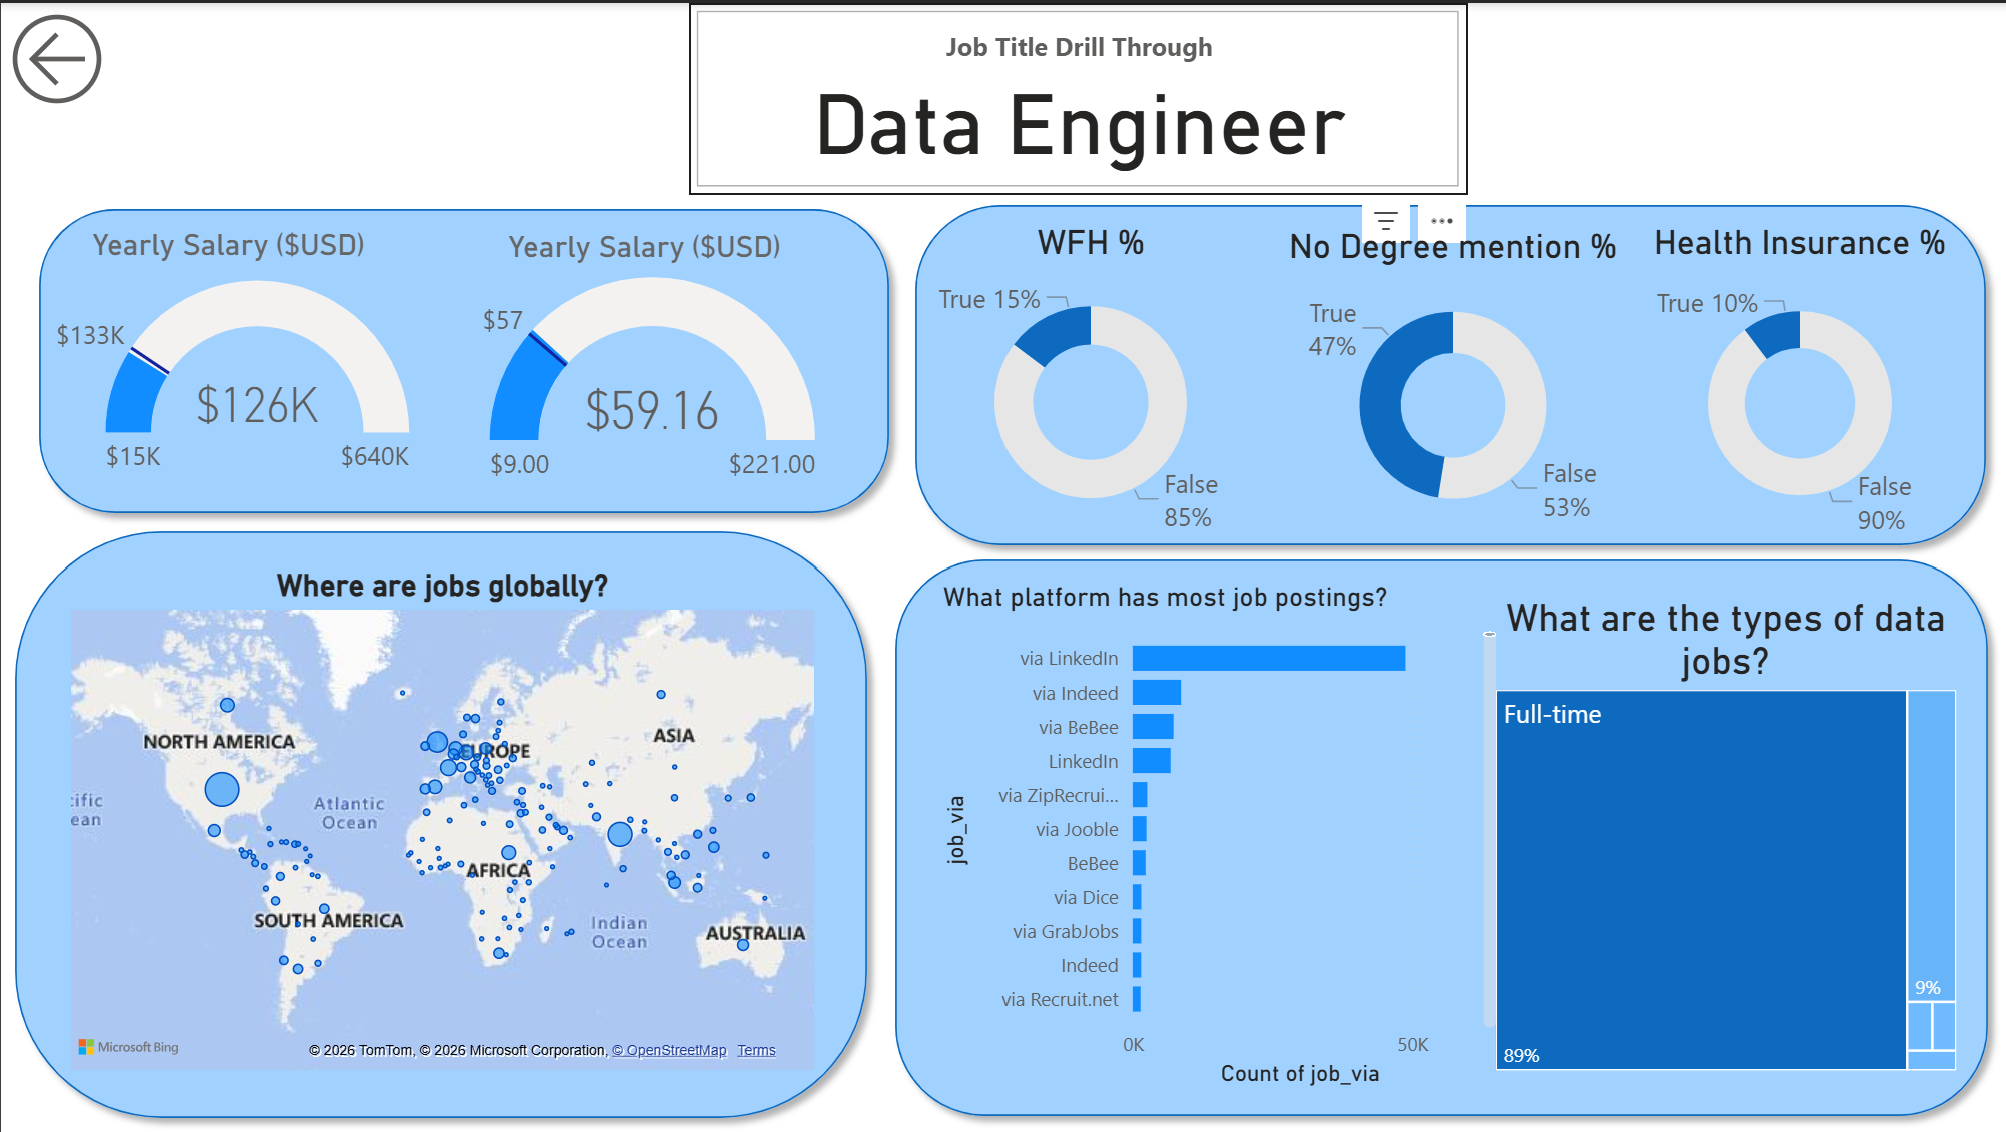

This screenshot's page, from the dashboard's own definition file:
{"tool":"powerbi","page":{"name":"Job Title Drill Through","canvas":[1280,720],"ordinal":1},"visuals":[{"type":"group","id":"g1","title":"Background","box":[0,119.3,1274.9,598.9],"z":0},{"type":"shape","box":[15.3,121.5,559.7,211.6],"z":0,"group":"g1"},{"type":"cardVisual","title":"Job Title Drill Through","fields":{"Data":["Min(job_postings_flat.job_title_short)"]},"box":[438.6,0,495.9,122.4],"z":1000},{"type":"shape","box":[573.7,119.3,699.9,234.6],"z":1000,"group":"g1"},{"type":"actionButton","box":[0,0,118.6,91.8],"z":2000},{"type":"shape","box":[0,326.8,561,391.4],"z":2000,"group":"g1"},{"type":"gauge","title":"Yearly Salary ($USD)","fields":{"Y":["Median(job_postings_flat.salary_year_avg)"],"MinValue":["Min(job_postings_flat.salary_year_avg)"],"MaxValue":["Max(job_postings_flat.salary_year_avg)"],"TargetValue":["Avg(job_postings_flat.salary_year_avg)1"]},"box":[24.2,142.8,241,174.7],"z":3000},{"type":"shape","box":[561,344.6,713.9,372.3],"z":3000,"group":"g1"},{"type":"gauge","title":"Yearly Salary ($USD)","fields":{"Y":["Median(job_postings_flat.salary_hour_avg)"],"MinValue":["Min(job_postings_flat.salary_hour_avg)"],"MaxValue":["Max(job_postings_flat.salary_hour_avg)"],"TargetValue":["Avg(job_postings_flat.salary_hour_avg)"]},"box":[295.8,144.1,228.2,174.7],"z":4000},{"type":"donutChart","title":"WFH %","fields":{"Category":["job_postings_flat.job_work_from_home"],"Y":["CountNonNull(job_postings_flat.job_work_from_home)"]},"box":[575,140.2,238.4,204],"z":5000},{"type":"donutChart","title":"No Degree mention %","fields":{"Category":["job_postings_flat.job_no_degree_mention"],"Y":["CountNonNull(job_postings_flat.job_no_degree_mention)"]},"box":[813.4,142.8,223.1,202.7],"z":6000},{"type":"donutChart","title":"Health Insurance %","fields":{"Y":["CountNonNull(job_postings_flat.job_health_insurance)"],"Category":["job_postings_flat.job_health_insurance"]},"box":[1041.6,140.2,209.1,205.3],"z":7000},{"type":"map","title":"Where are jobs globally?","fields":{"Category":["job_postings_flat.job_country"],"Size":["CountNonNull(job_postings_flat.job_title_short)"]},"box":[39.5,359.5,484.5,325.1],"z":8000},{"type":"treemap","title":"What are the types of data jobs?","fields":{"Values":["CountNonNull(job_postings_flat.job_schedule_type)"],"Group":["job_postings_flat.job_schedule_type"]},"box":[947.3,377.4,303.4,307.3],"z":9000},{"type":"clusteredBarChart","title":"What platform has most job postings?","fields":{"Category":["job_postings_flat.job_via"],"Y":["CountNonNull(job_postings_flat.job_via)"]},"box":[595.4,368.4,362.1,326.4],"z":10000}]}

Visuals, with their boxes in screenshot pixels (x1, y1, x2, y2), scaled from the page's 1280x720 canvas onto the 2006x1132 screenshot:
"Background" group: bbox(0, 188, 1998, 1129)
shape: bbox(24, 191, 901, 524)
"Job Title Drill Through" cardVisual: bbox(687, 0, 1465, 192)
shape: bbox(899, 188, 1996, 556)
actionButton: bbox(0, 0, 186, 144)
shape: bbox(0, 514, 879, 1129)
"Yearly Salary ($USD)" gauge: bbox(38, 225, 416, 499)
shape: bbox(879, 542, 1998, 1127)
"Yearly Salary ($USD)" gauge: bbox(464, 227, 821, 501)
"WFH %" donutChart: bbox(901, 220, 1275, 541)
"No Degree mention %" donutChart: bbox(1275, 225, 1624, 543)
"Health Insurance %" donutChart: bbox(1632, 220, 1960, 543)
"Where are jobs globally?" map: bbox(62, 565, 821, 1076)
"What are the types of data jobs?" treemap: bbox(1485, 593, 1960, 1077)
"What platform has most job postings?" clusteredBarChart: bbox(933, 579, 1501, 1092)
